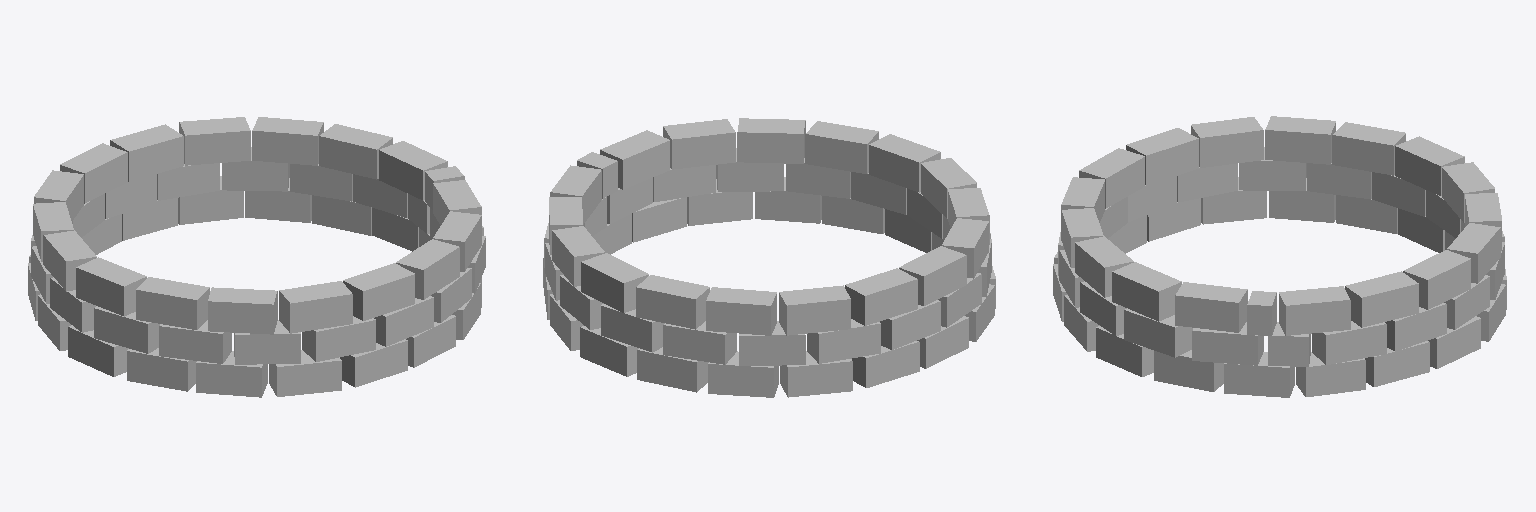
File: brick-well-orig.obj
3 renders of one model, left to right at view 1: azimuth 30°, elevation 25°; view 2: azimuth 150°, elevation 25°; view 3: azimuth 270°, elevation 25°, orthographic.
Parts seen in each view (by area): view 1: part-30, part-39, part-31, part-14, part-15, part-29, part-51, part-40, part-13, part-52, part-20, part-28 (+28 smaller); view 2: part-11, part-12, part-13, part-28, part-42, part-27, part-29, part-14, part-30, part-50, part-41, part-1 (+28 smaller); view 3: part-50, part-52, part-51, part-41, part-40, part-42, part-27, part-39, part-15, part-11, part-48, part-46 (+28 smaller).
Part boxes in pixels (x1,y1,x2,y2): part-30: (279, 281, 352, 333); part-39: (136, 277, 209, 329); part-31: (208, 287, 277, 334); part-14: (179, 117, 250, 165); part-15: (252, 117, 323, 165); part-29: (343, 263, 414, 320); part-51: (319, 124, 392, 179); part-40: (76, 257, 146, 316); part-13: (110, 124, 183, 181); part-52: (379, 141, 447, 200); part-20: (269, 350, 341, 396); part-28: (396, 239, 459, 299); part-11: (779, 285, 850, 335); part-12: (706, 287, 776, 335); part-13: (636, 275, 709, 329); part-28: (737, 118, 805, 163); part-42: (845, 268, 917, 325); part-27: (663, 119, 735, 169); part-29: (805, 121, 878, 173); part-14: (581, 253, 648, 312); part-30: (869, 134, 940, 192); part-50: (600, 130, 669, 189); part-41: (899, 246, 966, 305); part-1: (780, 351, 852, 397); part-50: (1175, 282, 1247, 332); part-52: (1279, 286, 1350, 335); part-51: (1345, 271, 1418, 327); part-41: (1265, 116, 1335, 164); part-40: (1191, 117, 1263, 167); part-42: (1332, 122, 1405, 175); part-27: (1112, 262, 1181, 321); part-39: (1126, 128, 1198, 185); part-15: (1403, 250, 1470, 309); part-11: (1395, 136, 1464, 195); part-48: (1312, 321, 1386, 364); part-46: (1192, 322, 1263, 365).
Size of the model in its own units: 2.76 by 0.6004 by 2.73.